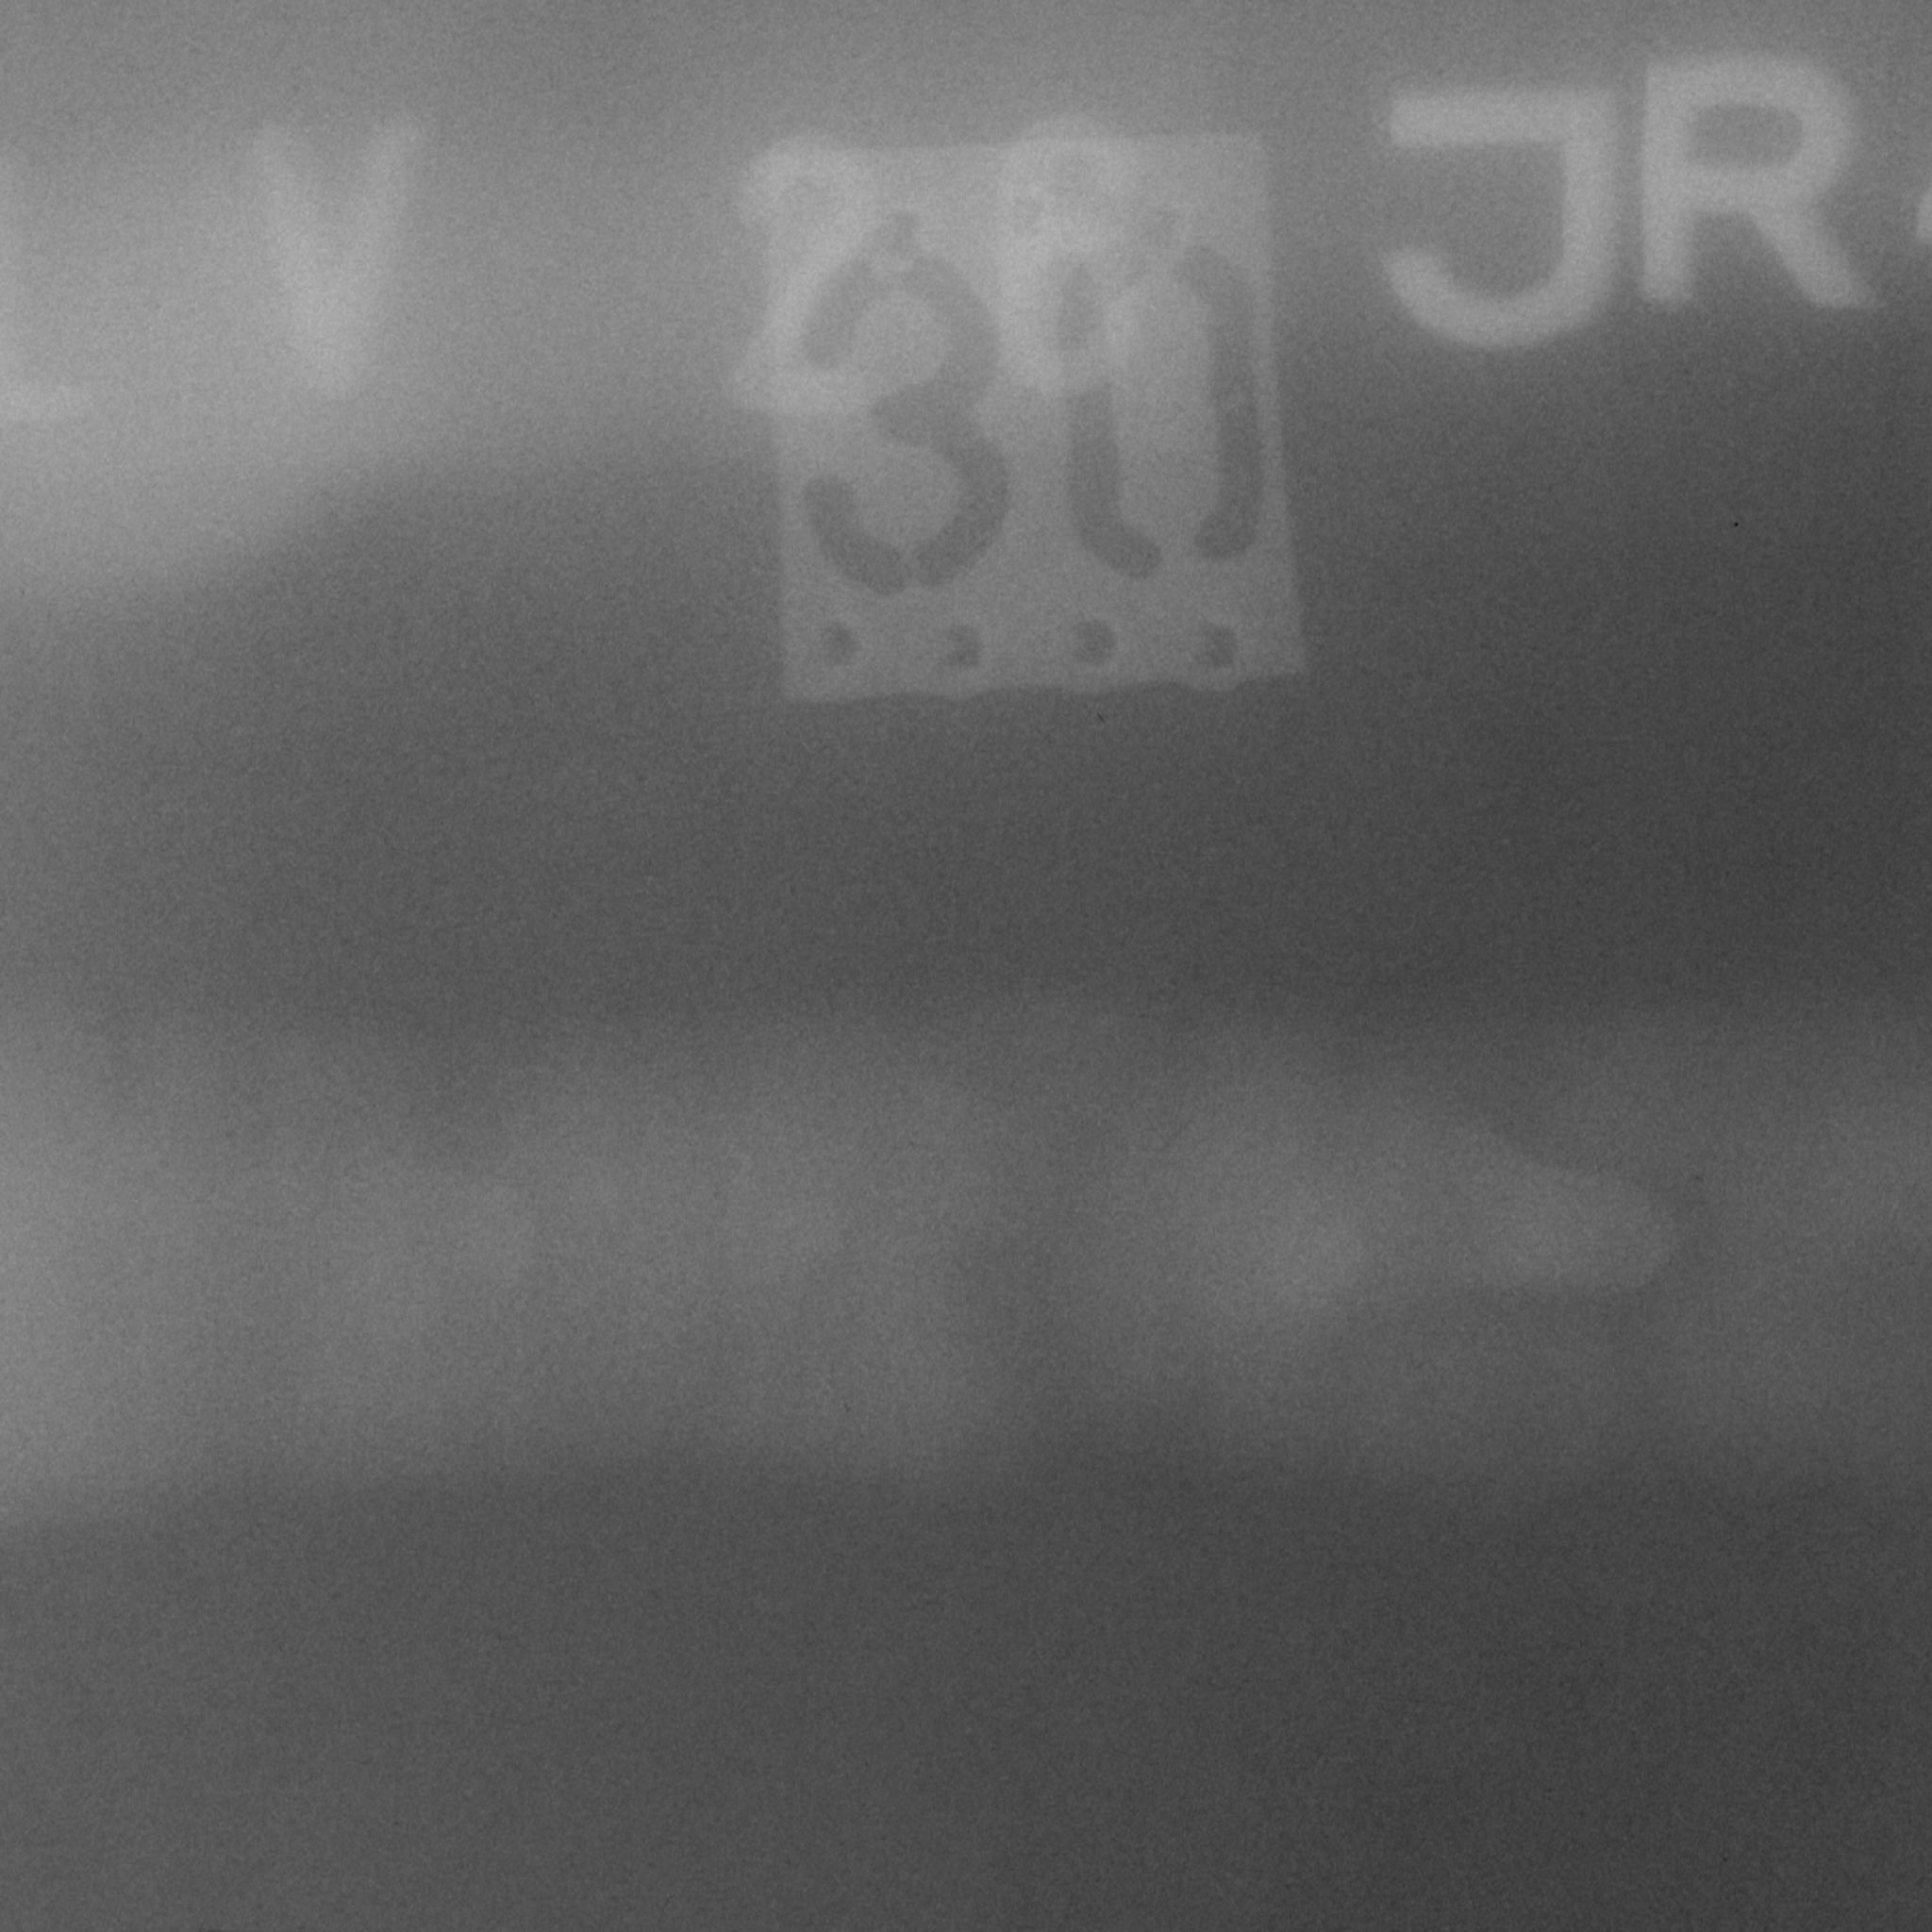Solda Ruim: (0, 938, 1932, 1605)
